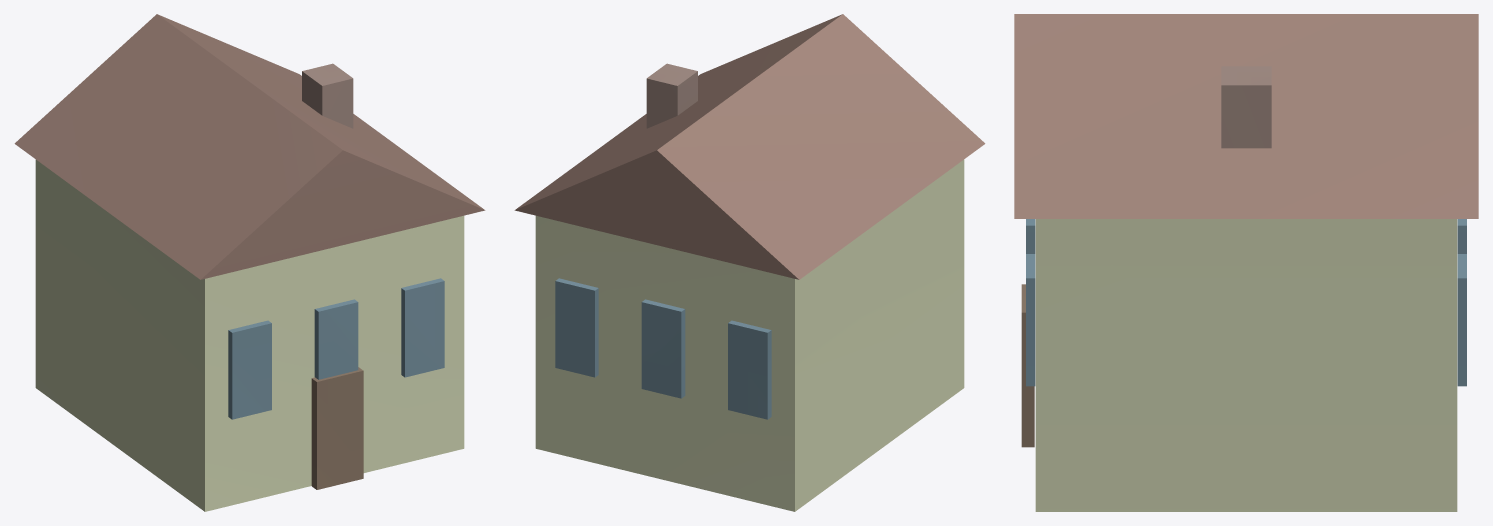
Rendered from cottage-01.glb.
3 views of the same model, side by side, from view 1: azimuth 30°, elevation 25°; view 2: azimuth 150°, elevation 25°; view 3: azimuth 270°, elevation 25° (orthographic). The views are drawn at different scales.
Parts seen in each view (by area): view 1: world; view 2: world; view 3: world.
Part boxes in pixels (x1,y1,x2,y2): world: (14, 14, 485, 511); world: (514, 14, 985, 511); world: (1014, 14, 1478, 511).
Size of the model in its own units: 1.1 by 1.24 by 1.25.
